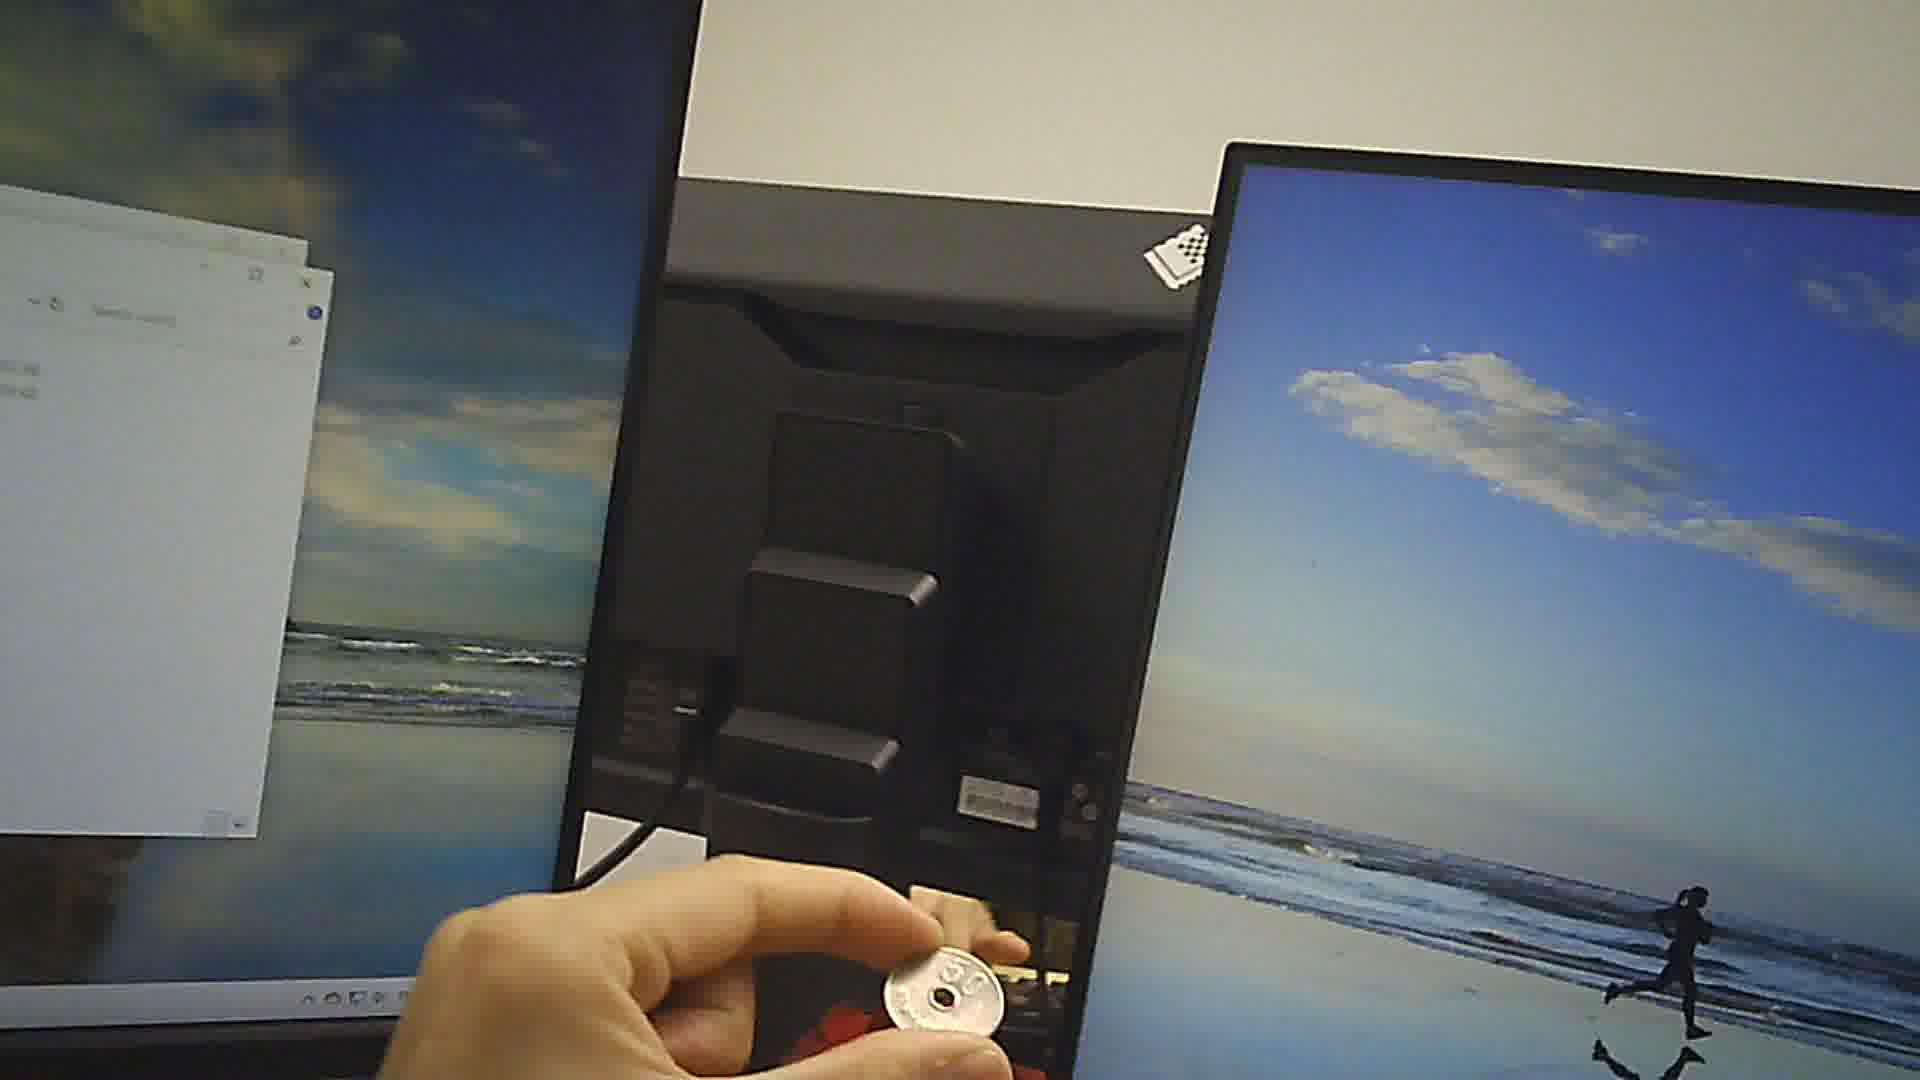50 Yen: (884, 938, 1017, 1043)
